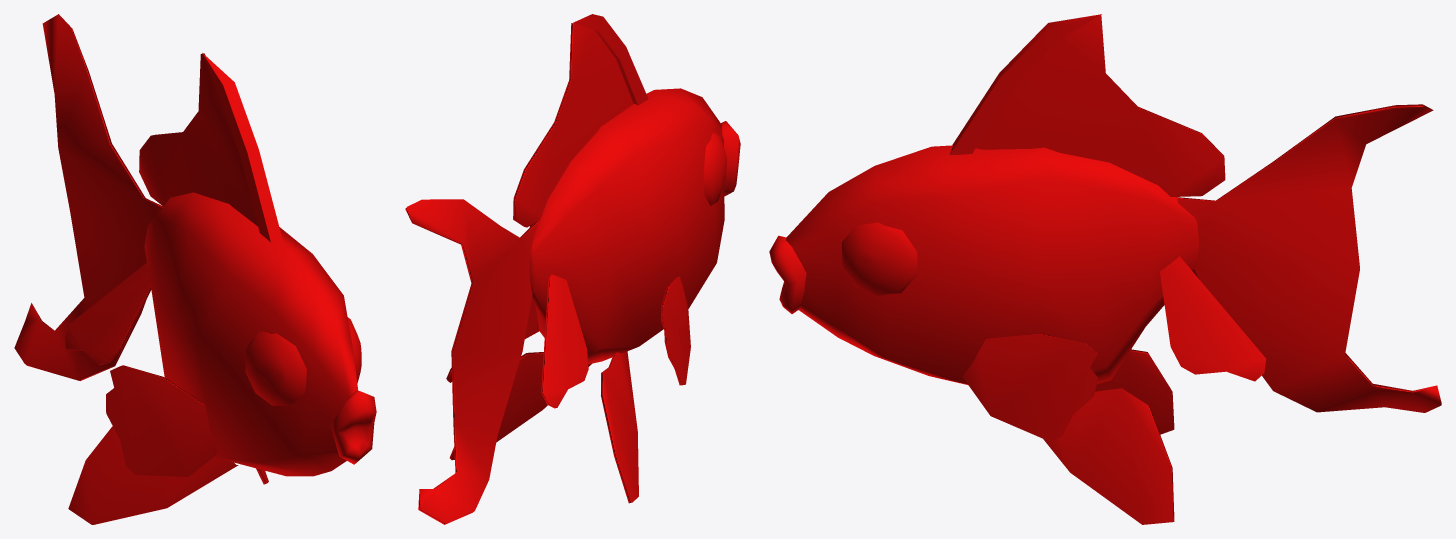
The picture shows the model from 3 angles, left to right: view 1: azimuth 30°, elevation 25°; view 2: azimuth 150°, elevation 25°; view 3: azimuth 270°, elevation 25°; orthographic projection. The views are drawn at different scales.
Visible parts, largest first — view 1: Fish_Goldfish; view 2: Fish_Goldfish; view 3: Fish_Goldfish.
Part boxes in pixels (x1,y1,x2,y2): Fish_Goldfish: (14,14,376,524); Fish_Goldfish: (405,14,740,524); Fish_Goldfish: (769,14,1441,524).
Size of the model in its own units: 0.1199 by 0.2701 by 0.3506.
